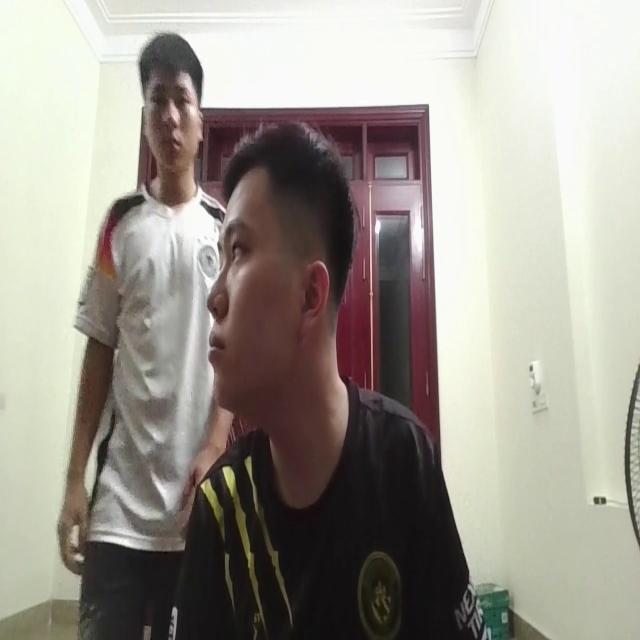extra_person: (66, 27, 244, 588)
student: (186, 101, 471, 640)
